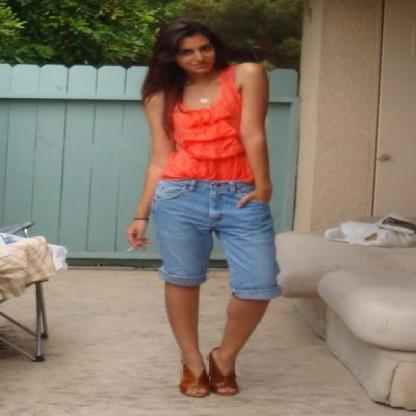pants: (150, 179, 280, 299)
shirt: (165, 75, 251, 181)
shoe: (180, 359, 235, 395)
